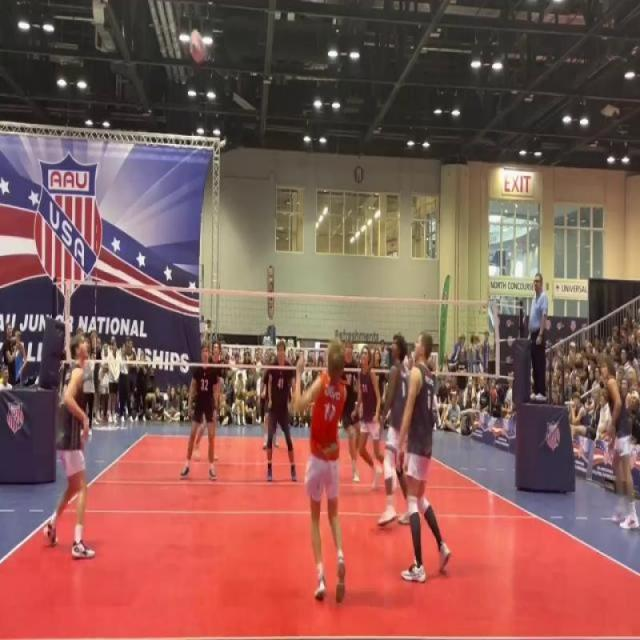volleyball: (188, 26, 208, 66)
